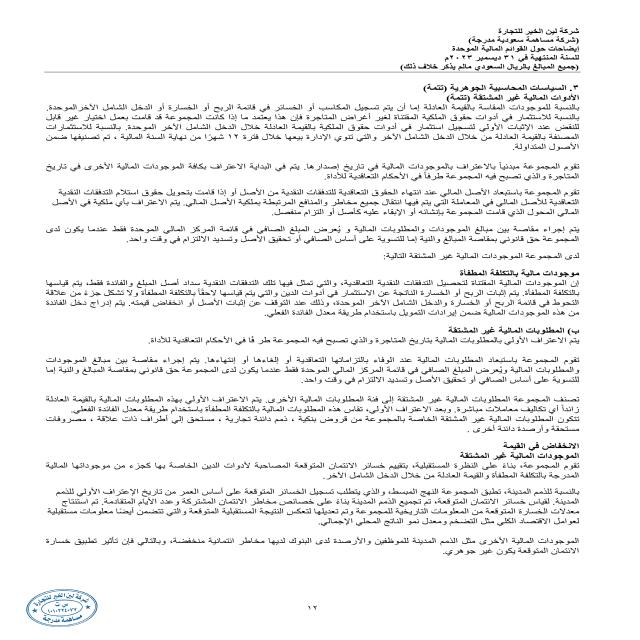notes: (444, 44, 582, 54)
text: (35, 79, 588, 565)
